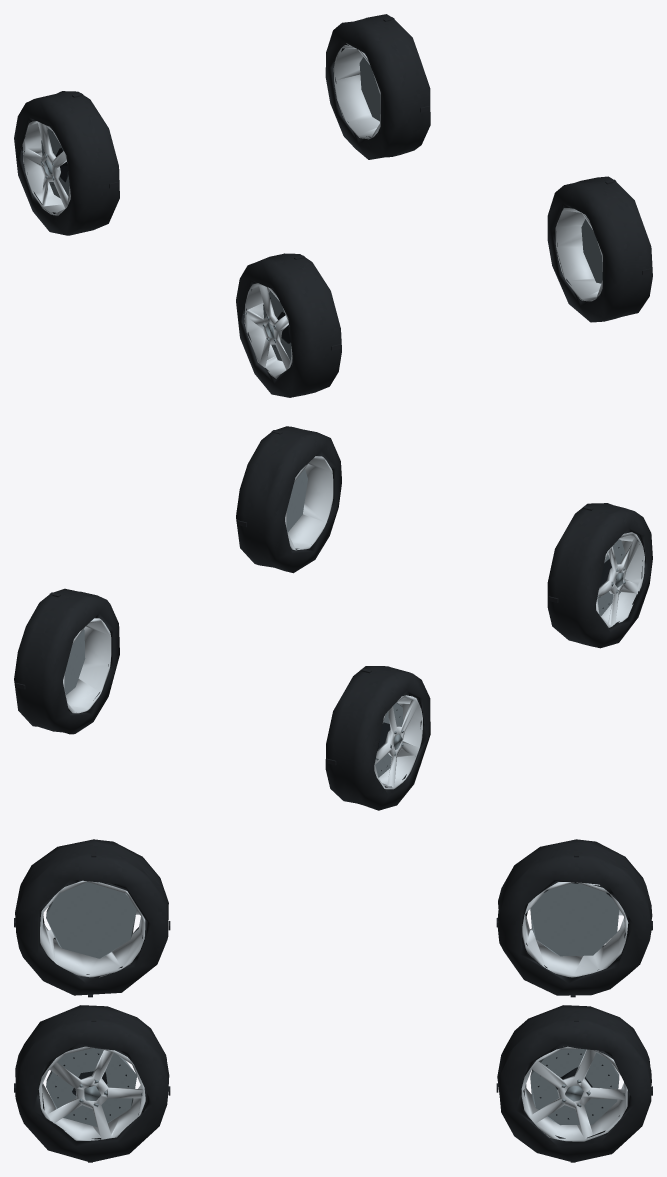
The model's file is campus-hatchback-far-wheels.glb.
The picture shows the model from 3 angles, top to bottom: view 1: azimuth 30°, elevation 25°; view 2: azimuth 150°, elevation 25°; view 3: azimuth 270°, elevation 25°; orthographic projection. The views are drawn at different scales.
Visible parts, largest first — view 1: Wheel0:rubber, Wheel1:rubber, Wheel2:rubber, Wheel3:rubber, Wheel2:chrome, Wheel0:chrome, Wheel1:chrome, Wheel3:chrome, Wheel1:steel, Wheel3:steel, Wheel0:steel, Wheel2:steel; view 2: Wheel0:rubber, Wheel1:rubber, Wheel3:rubber, Wheel2:rubber, Wheel2:chrome, Wheel1:chrome, Wheel3:chrome, Wheel0:chrome, Wheel3:steel, Wheel1:steel, Wheel0:steel, Wheel2:steel; view 3: Wheel1:rubber, Wheel3:rubber, Wheel2:rubber, Wheel0:rubber, Wheel2:steel, Wheel0:steel, Wheel3:chrome, Wheel1:chrome, Wheel3:steel, Wheel1:steel, Wheel0:chrome, Wheel2:chrome.
Part boxes in pixels (x1,y1,x2,y2): Wheel0:rubber: [236, 253, 341, 397]; Wheel1:rubber: [547, 176, 652, 322]; Wheel2:rubber: [14, 91, 119, 235]; Wheel3:rubber: [325, 14, 430, 159]; Wheel2:chrome: [22, 121, 70, 215]; Wheel0:chrome: [244, 283, 292, 378]; Wheel1:chrome: [555, 208, 602, 301]; Wheel3:chrome: [333, 43, 380, 139]; Wheel1:steel: [581, 219, 602, 283]; Wheel3:steel: [359, 57, 380, 121]; Wheel0:steel: [243, 290, 291, 361]; Wheel2:steel: [21, 128, 69, 198]; Wheel0:rubber: [547, 503, 652, 648]; Wheel1:rubber: [236, 426, 341, 573]; Wheel3:rubber: [14, 588, 119, 734]; Wheel2:rubber: [325, 666, 430, 810]; Wheel2:chrome: [374, 695, 422, 789]; Wheel1:chrome: [285, 456, 333, 550]; Wheel3:chrome: [63, 618, 111, 713]; Wheel0:chrome: [596, 532, 644, 627]; Wheel3:steel: [64, 629, 85, 694]; Wheel1:steel: [286, 469, 307, 532]; Wheel0:steel: [597, 539, 625, 615]; Wheel2:steel: [375, 702, 403, 777]; Wheel1:rubber: [14, 1005, 170, 1162]; Wheel3:rubber: [496, 1005, 652, 1162]; Wheel2:rubber: [496, 839, 652, 997]; Wheel0:rubber: [14, 839, 170, 997]; Wheel2:steel: [530, 883, 619, 956]; Wheel0:steel: [46, 882, 136, 958]; Wheel3:chrome: [521, 1046, 627, 1141]; Wheel1:chrome: [38, 1046, 145, 1140]; Wheel3:steel: [530, 1049, 625, 1125]; Wheel1:steel: [46, 1048, 142, 1127]; Wheel0:chrome: [40, 880, 145, 977]; Wheel2:chrome: [522, 882, 628, 977].
Bounding box in the file's own units: 1.95 × 0.68 × 2.78.
Materials: 4 (4 with a texture image).
